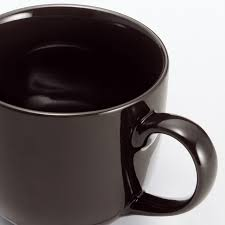mug: (1, 3, 219, 225)
